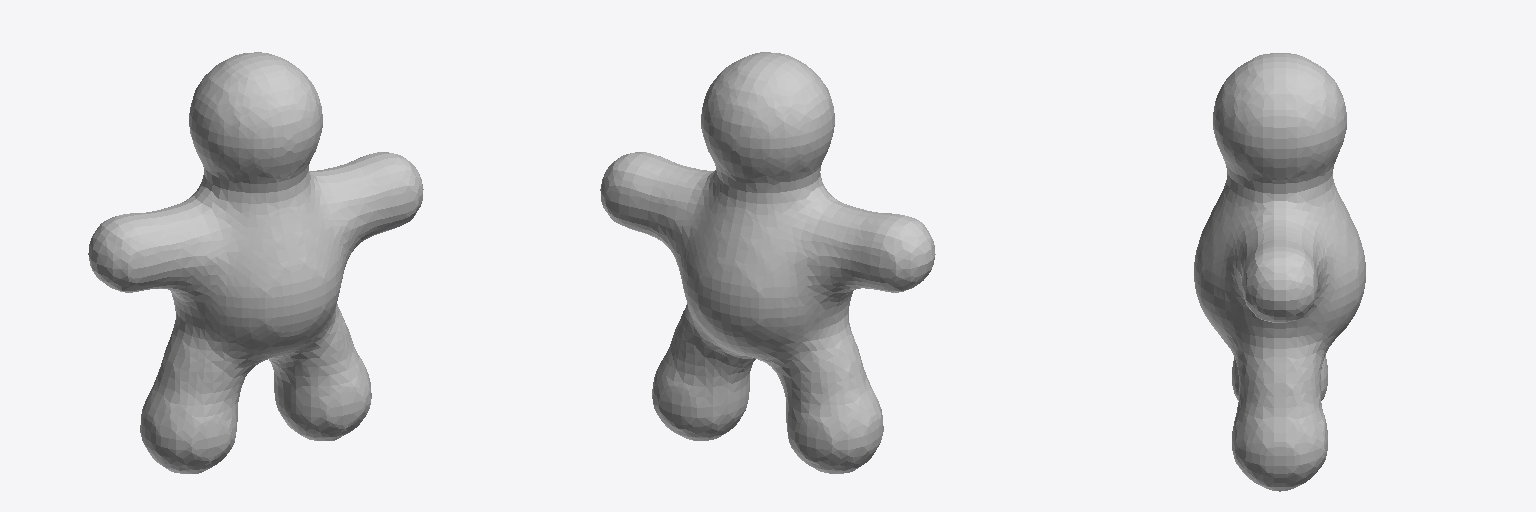
The model's file is mini_bear.obj.
3 renders of one model, left to right at view 1: azimuth 30°, elevation 25°; view 2: azimuth 150°, elevation 25°; view 3: azimuth 270°, elevation 25°, orthographic.
Visible parts, largest first — view 1: Mball.007; view 2: Mball.007; view 3: Mball.007.
Part boxes in pixels (left/top/right/bottom): Mball.007: left=88, top=52, right=423, bottom=473; Mball.007: left=600, top=52, right=935, bottom=473; Mball.007: left=1194, top=53, right=1365, bottom=491.
Bounding box in the file's own units: 1.87 × 2.16 × 0.856.